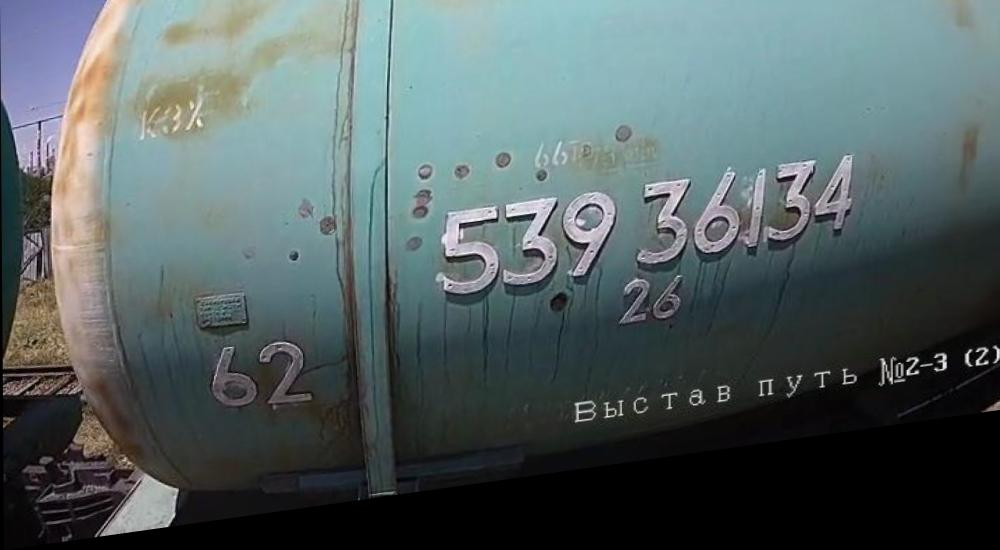Wagon-number: (432, 173, 864, 318)
